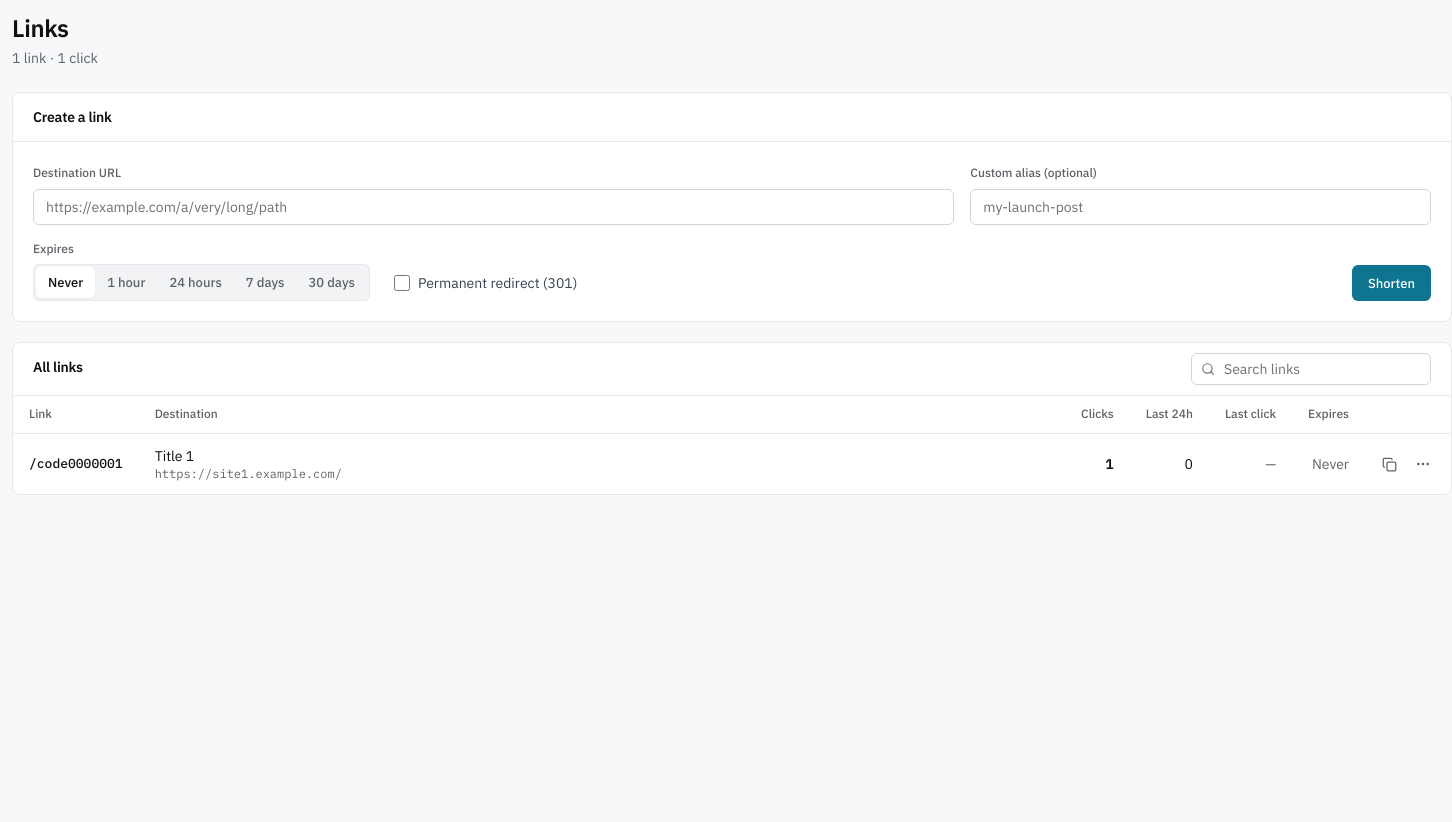
Links page › row menu closes on Escape and on an outside click
Click the button with test id "menu-code0000001": click(1423, 464) [1407,448,1439,480]
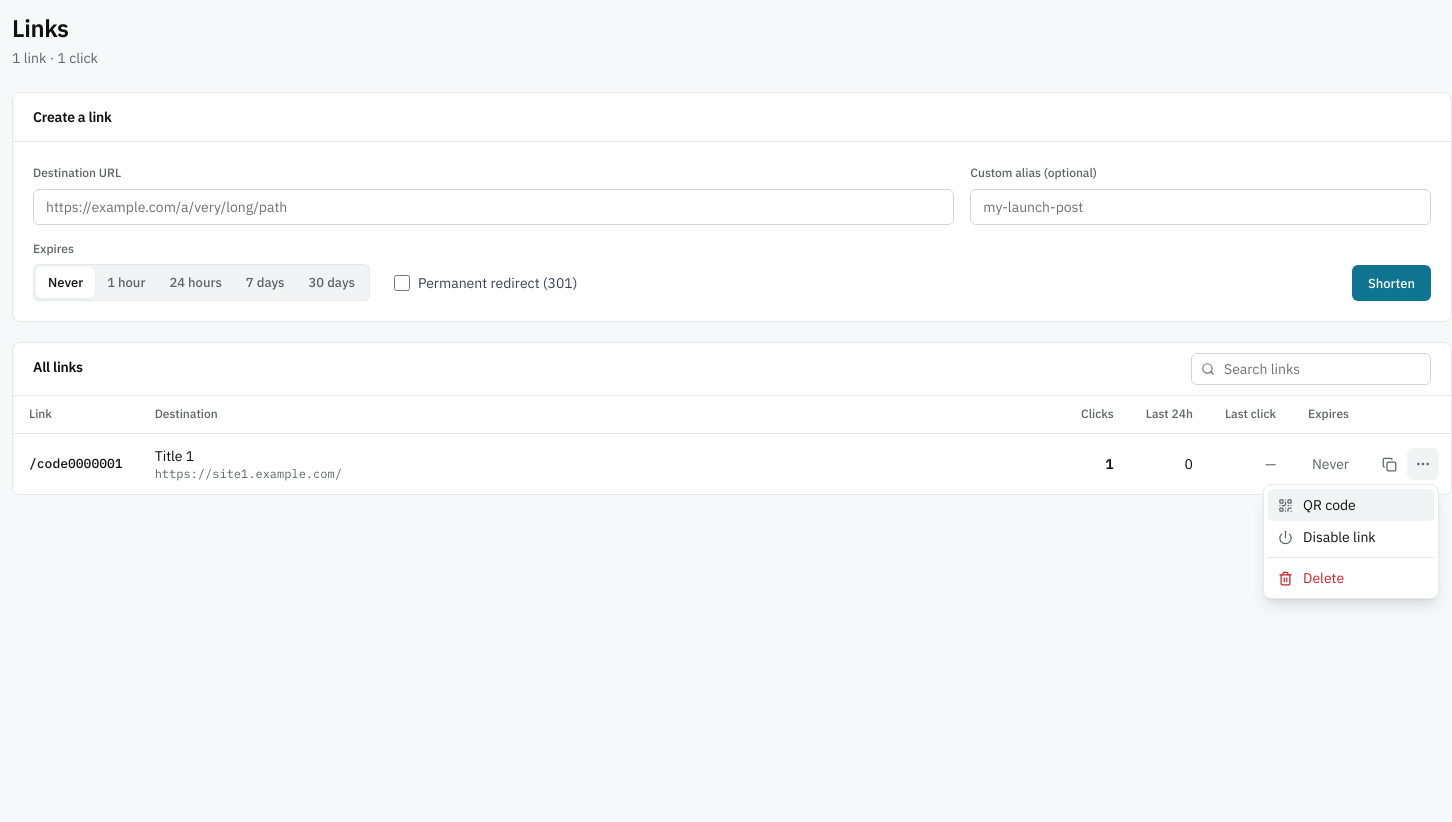
Expected: the menu is shown, [1263,484,1439,599]
Press Escape
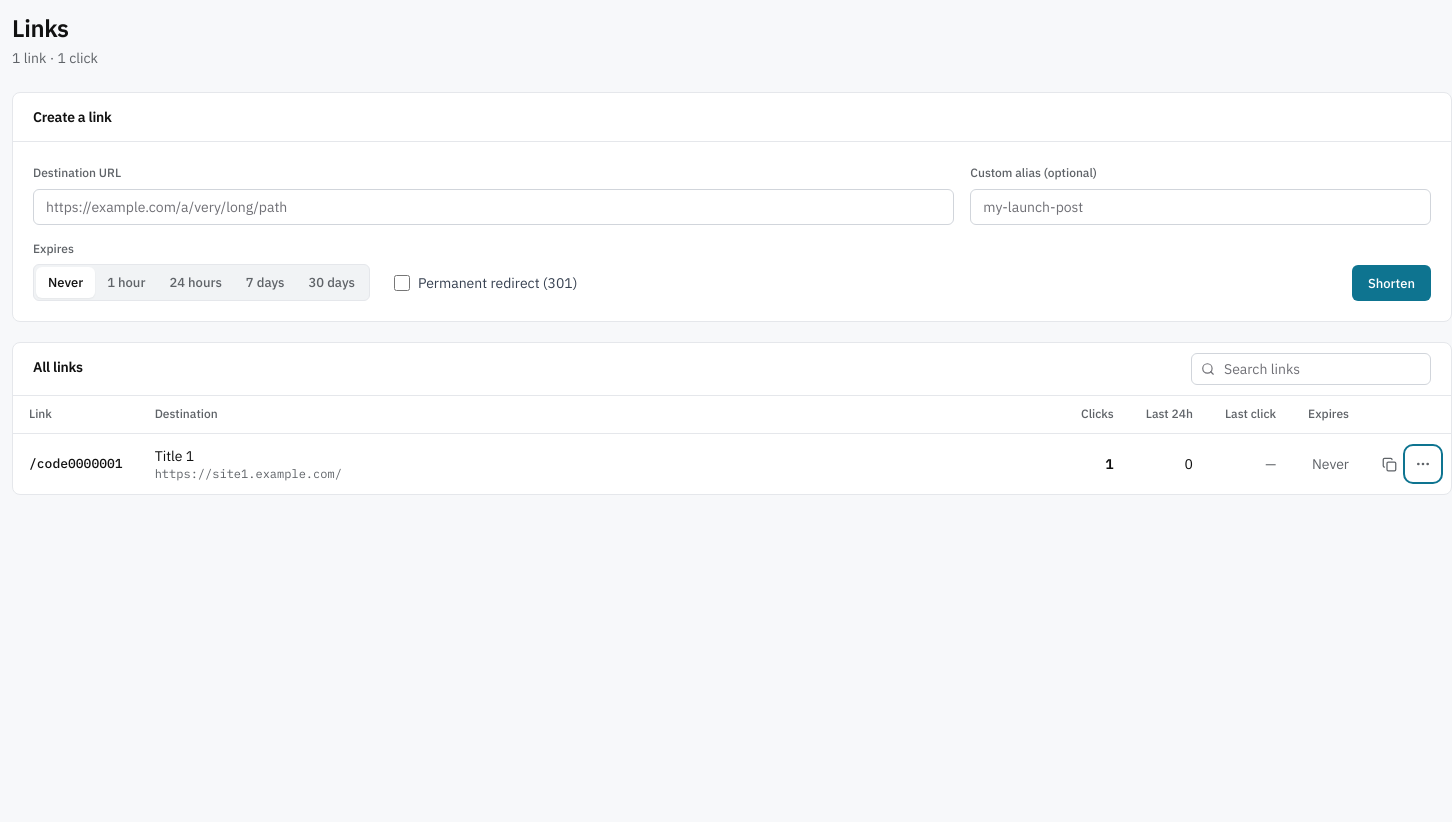
Expected: the menu is gone
Click the button with test id "menu-code0000001": click(1423, 464) [1407,448,1439,480]
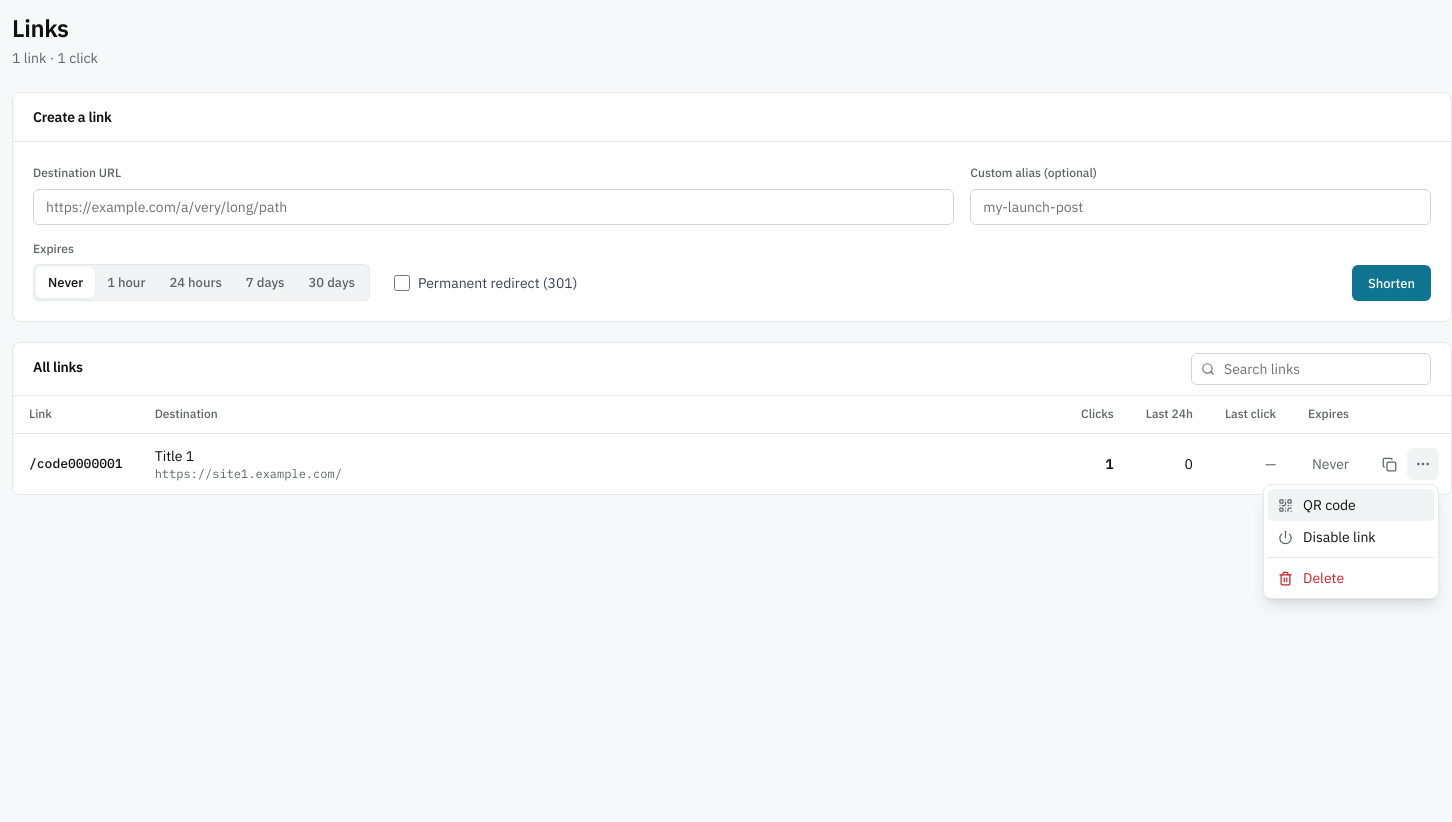
Expected: the menu is shown, [1263,484,1439,599]
Click the element with test id "links-page": click(732, 254) [12,12,1451,495]
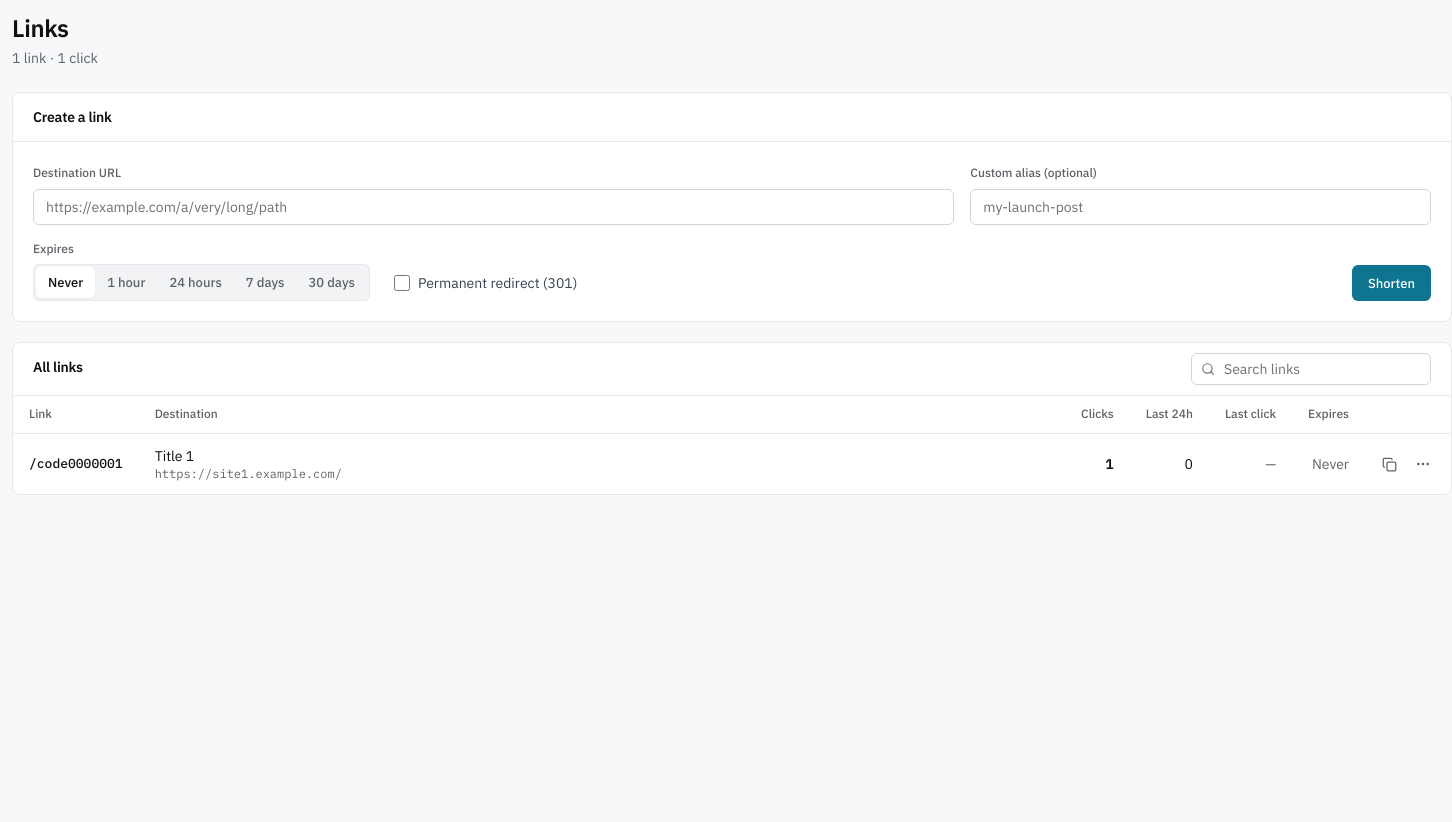
Expected: the menu is gone
